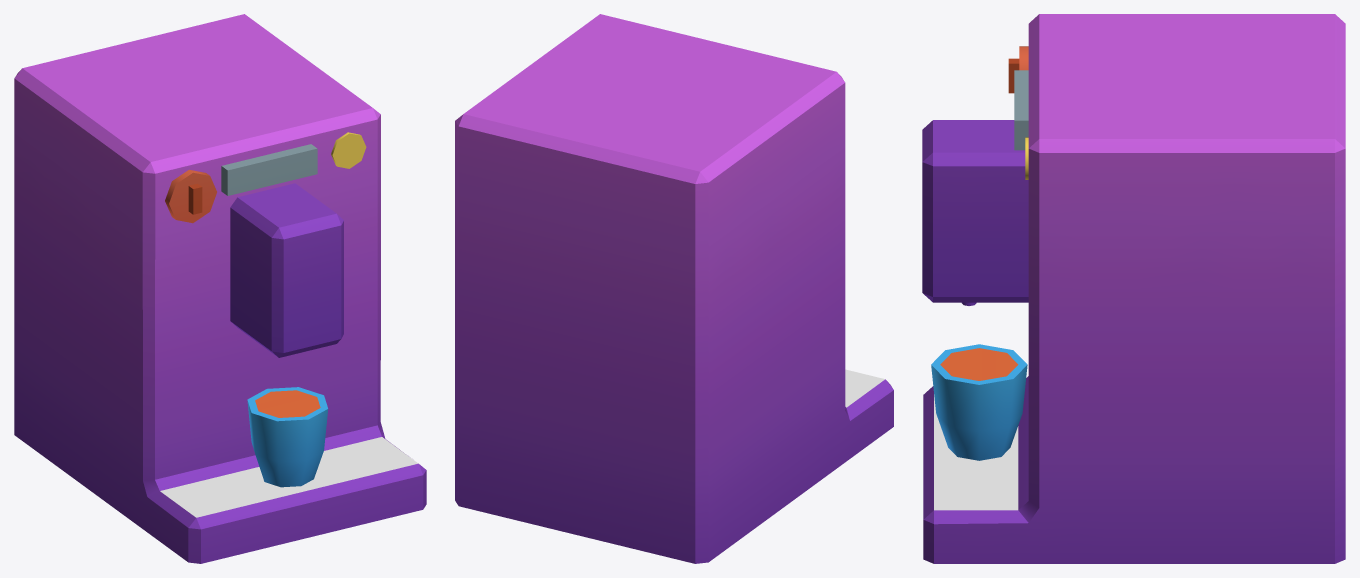
The model's file is Map02_Mayphache_LV1.fbx.
The picture shows the model from 3 angles, left to right: view 1: azimuth 30°, elevation 25°; view 2: azimuth 150°, elevation 25°; view 3: azimuth 270°, elevation 25°; orthographic projection. The views are drawn at different scales.
Visible parts, largest first — view 1: Map02_Mayphache_LV1; view 2: Map02_Mayphache_LV1; view 3: Map02_Mayphache_LV1.
Boxes of the visible parts, left/top/right/bottom form: Map02_Mayphache_LV1: left=14, top=14, right=426, bottom=563; Map02_Mayphache_LV1: left=455, top=14, right=893, bottom=563; Map02_Mayphache_LV1: left=922, top=14, right=1345, bottom=563.
Bounding box in the file's own units: 62.06 × 90.92 × 82.9.
